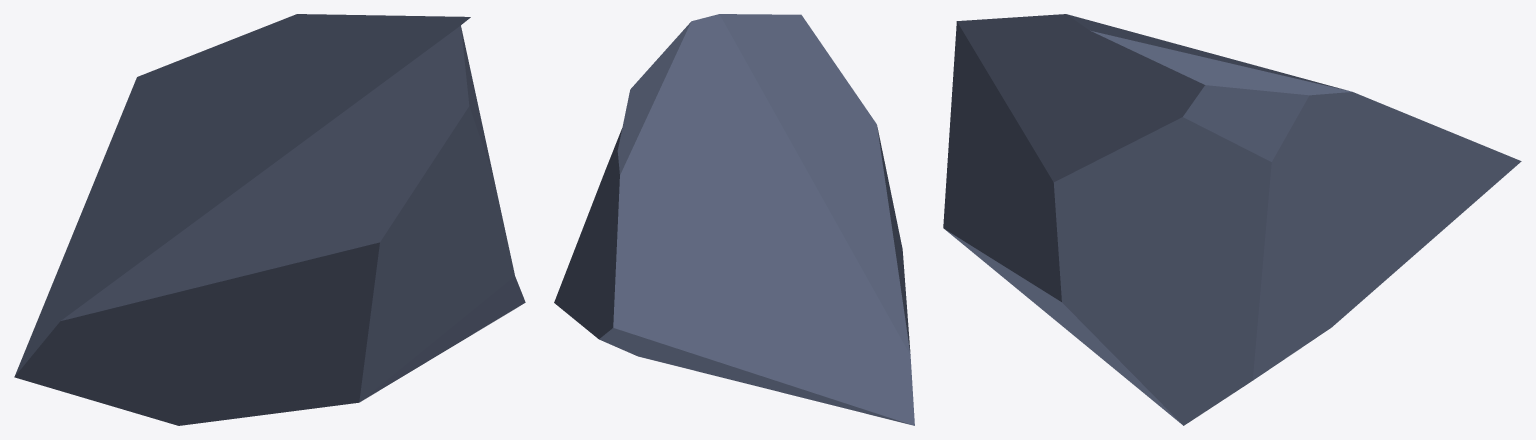
File: roca 3.fbx
3 views of the same model, side by side, from view 1: azimuth 30°, elevation 25°; view 2: azimuth 150°, elevation 25°; view 3: azimuth 270°, elevation 25° (orthographic). The views are drawn at different scales.
Visible parts, largest first — view 1: rock.003; view 2: rock.003; view 3: rock.003.
Part boxes in pixels (<box>): rock.003: <box>14,14,525,425</box>; rock.003: <box>554,14,914,425</box>; rock.003: <box>943,14,1521,425</box>.
Bounding box in the file's own units: 198 × 151 × 212.
